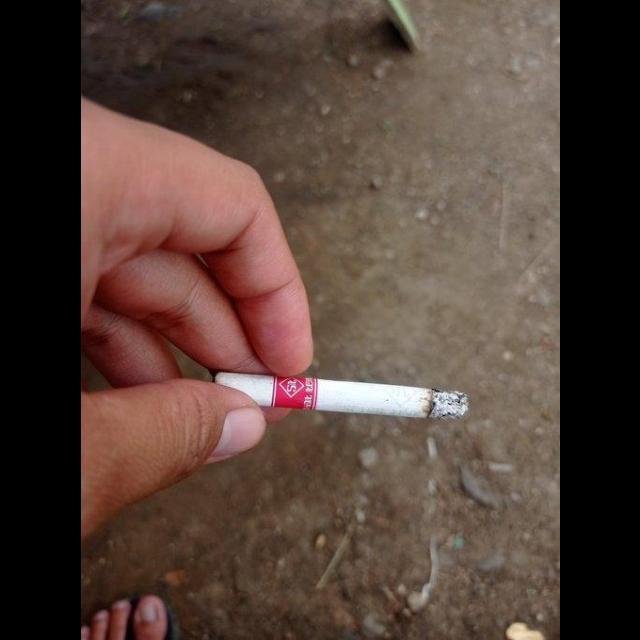rokok: (203, 361, 474, 427)
